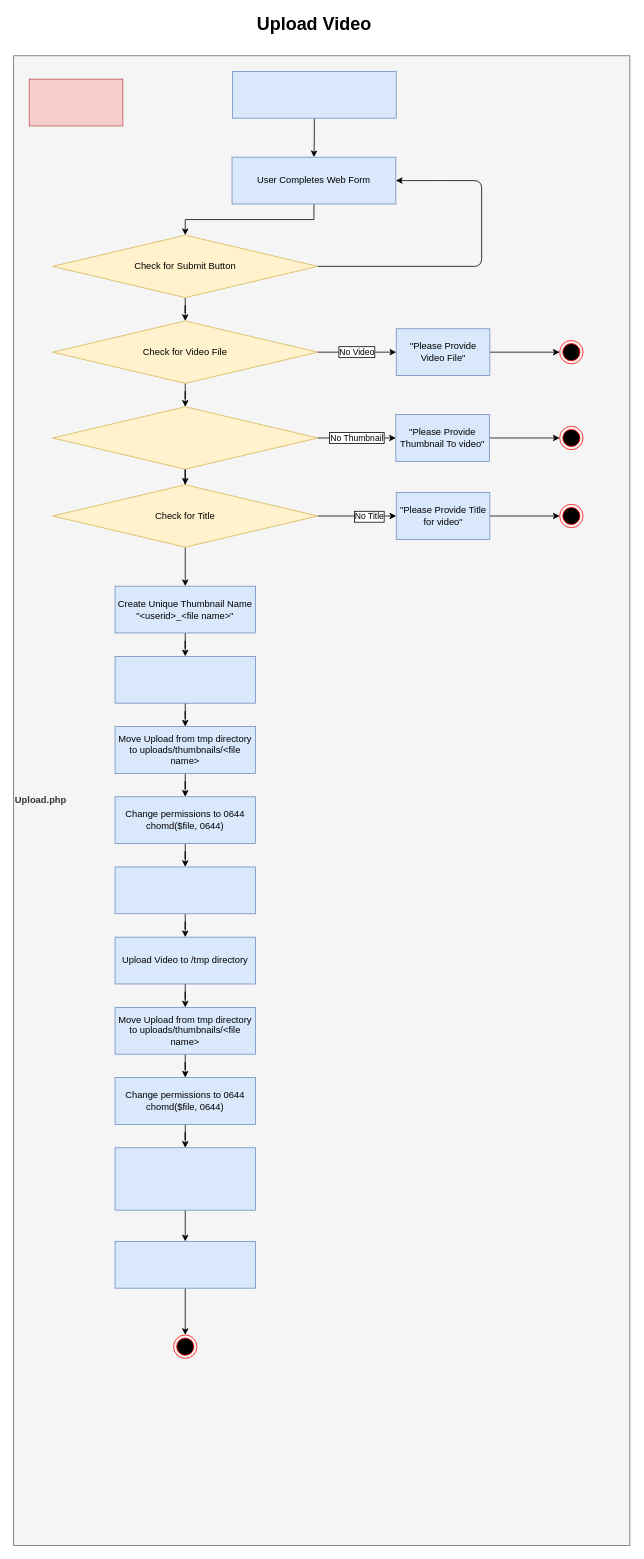
The diagram is 644 pixels wide and 1559 high, and some of its shapes have lost their labels. The centre of each missing label's shape, as x and y in pixels:
"Video uploaded successfully: (x=184, y=1264)
Check for Thumbnail: (x=185, y=437)
Create Unique Video Name "<userid>_<file name>": (x=184, y=890)
Navigate to Upload.php: (x=314, y=94)
Precondition: User is logged into account: (x=75, y=102)
Upload form data to the Video table under $_SESSION['user_id'] USER_ID: (x=184, y=1178)
Upload Thumbnail to /tmp directory: (x=184, y=679)
